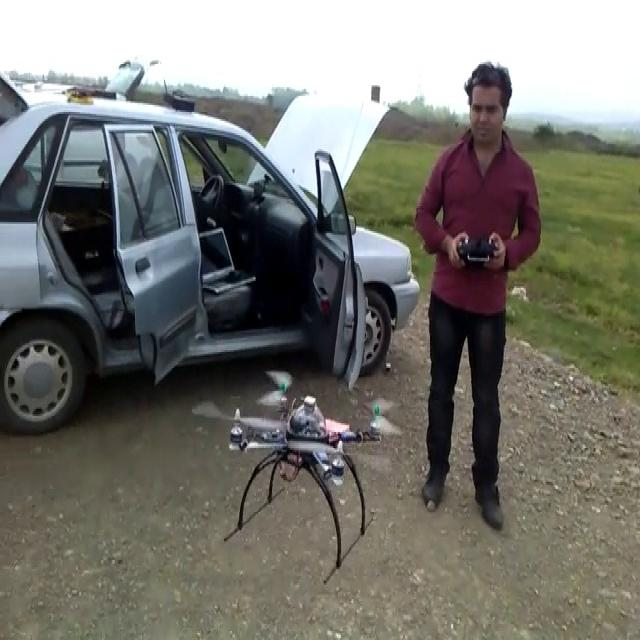drone: (188, 368, 401, 583)
